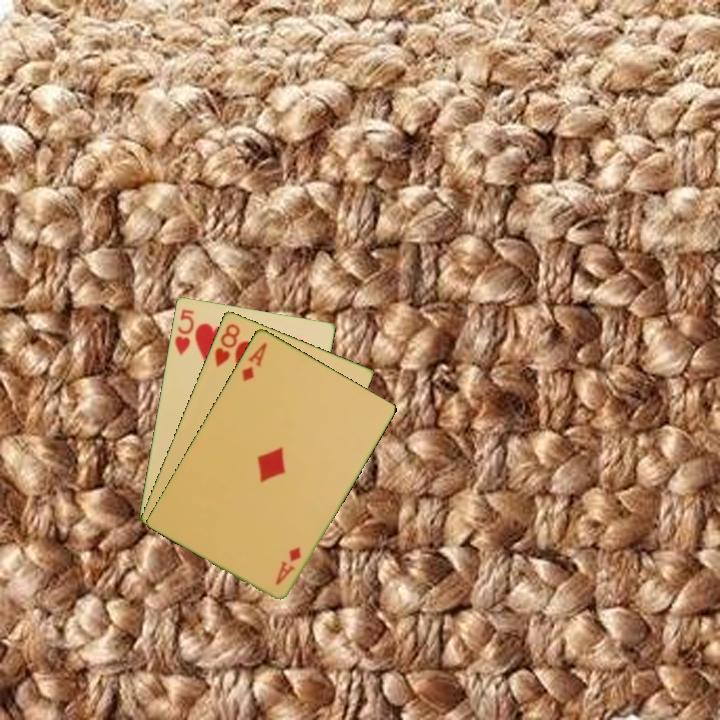5h: (171, 305, 197, 358)
8h: (211, 320, 243, 370)
Ad: (238, 338, 270, 384), (272, 543, 304, 588)
